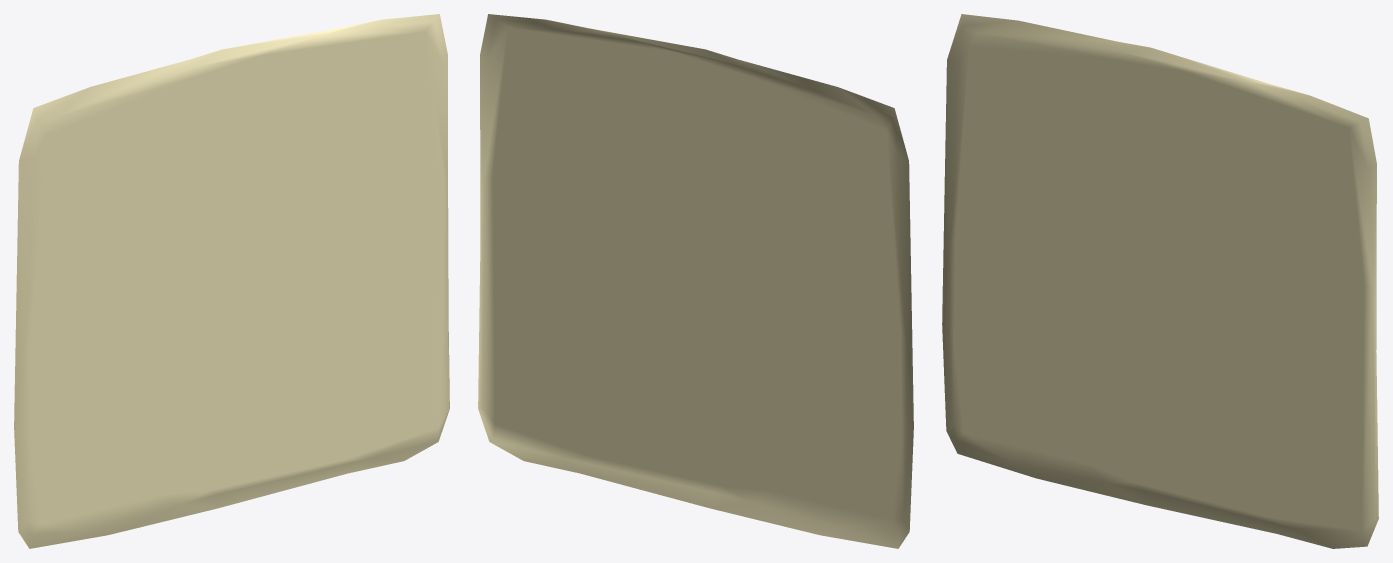
Rendered from ui_button_tab_1x1.glb.
The picture shows the model from 3 angles, left to right: view 1: azimuth 30°, elevation 25°; view 2: azimuth 150°, elevation 25°; view 3: azimuth 330°, elevation 25°; orthographic projection.
Visible parts, largest first — view 1: Cube; view 2: Cube; view 3: Cube.
Part boxes in pixels (x1,y1,x2,y2): Cube: [14, 14, 449, 548]; Cube: [478, 14, 913, 548]; Cube: [942, 14, 1378, 548].
Size of the model in its own units: 2.05 by 2.05 by 0.0217.
